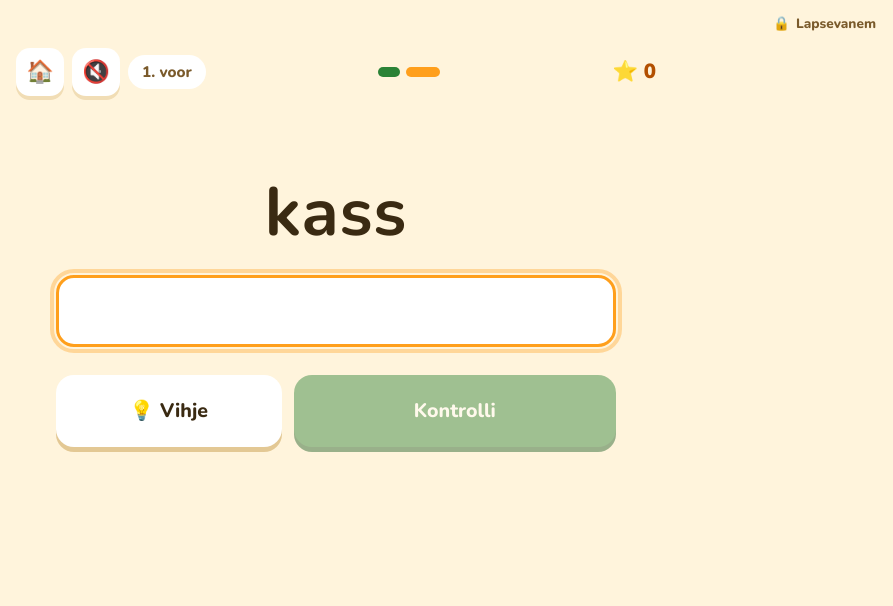
Scenario: training screen › shows a summary when the last word is done
Type "cat" into the field named "Sinu vastus". click: (336, 311)
box: 56,275 -> 616,347
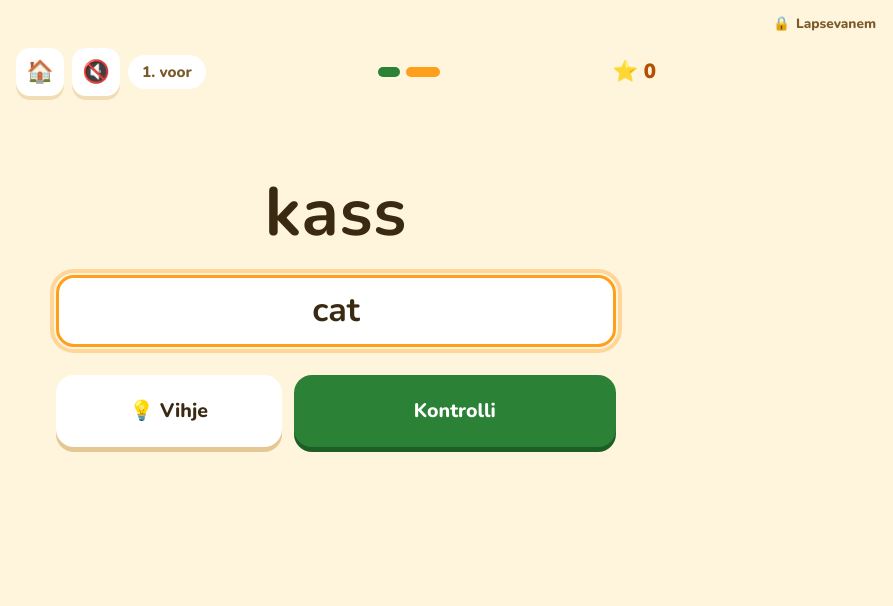
Click the button "Kontrolli". click: click(455, 411)
box: 294,375 -> 616,447
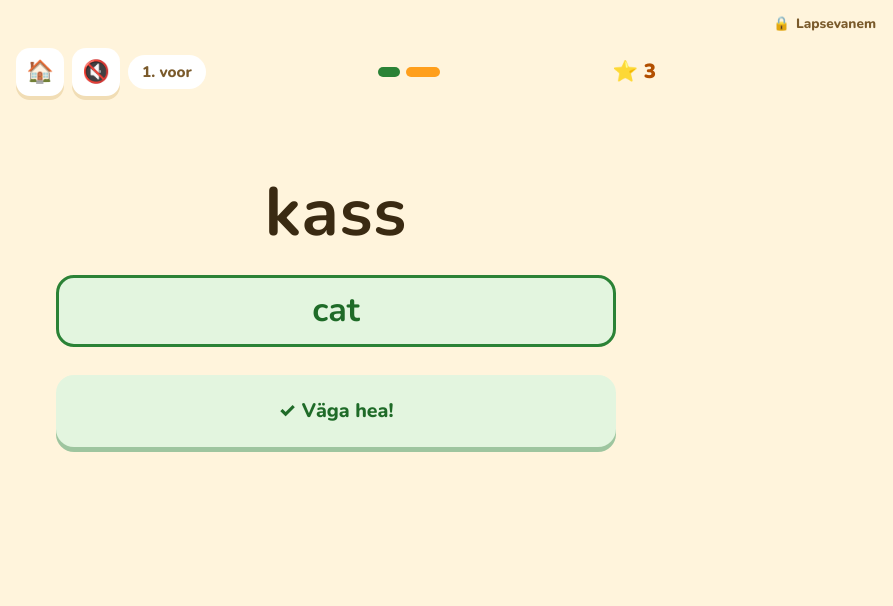
Click the button "✓ Väga hea!". click: click(336, 411)
box: 56,375 -> 616,447
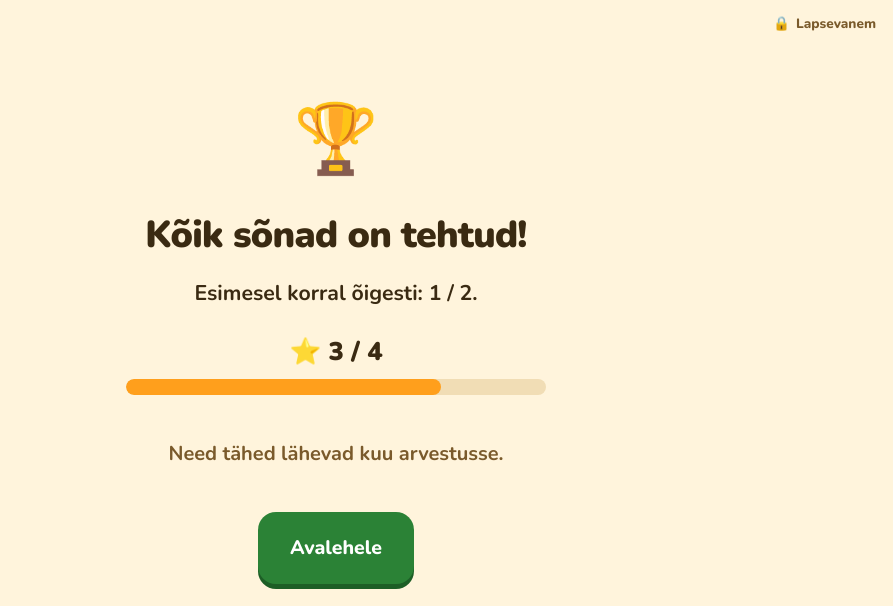
Expected: the heading "Kõik sõnad on tehtud!" is shown, 145,214 -> 527,255
Expected: the text "Esimesel korral õigesti: 1 / 2." is shown, 194,279 -> 478,310
Expected: the text "3 / 4" is shown, 328,334 -> 383,369
